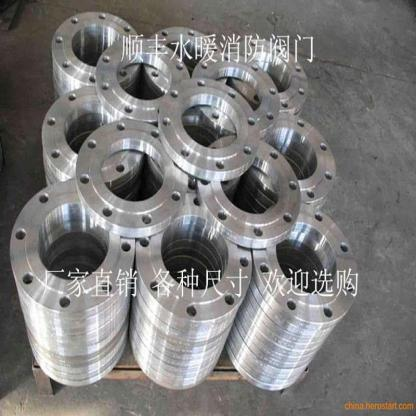FOD: (74, 119, 190, 240), (156, 74, 262, 182)
